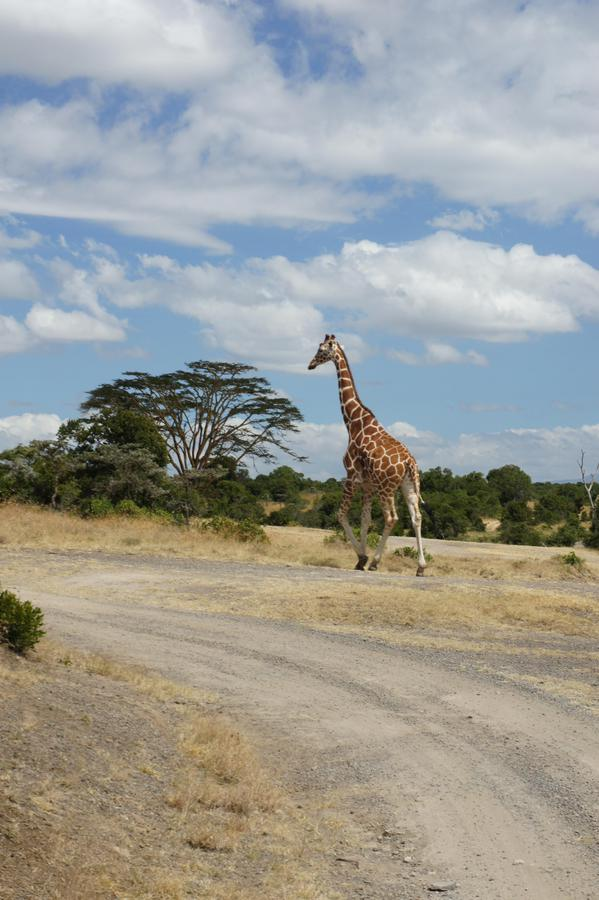giraffe: (305, 331, 438, 578)
